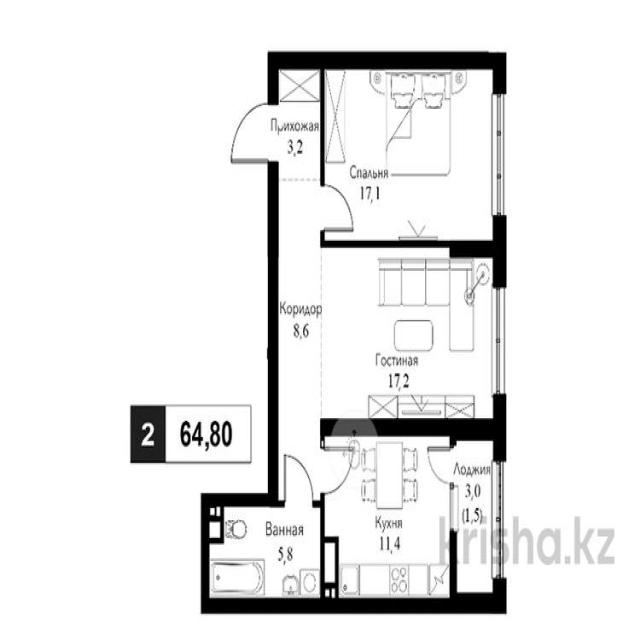balcony: (455, 436, 503, 602)
bathroom: (204, 503, 321, 608)
hallway: (275, 184, 323, 499), (270, 64, 323, 182)
kitchen: (321, 433, 453, 604)
living_room: (324, 245, 505, 432), (323, 58, 504, 240)
